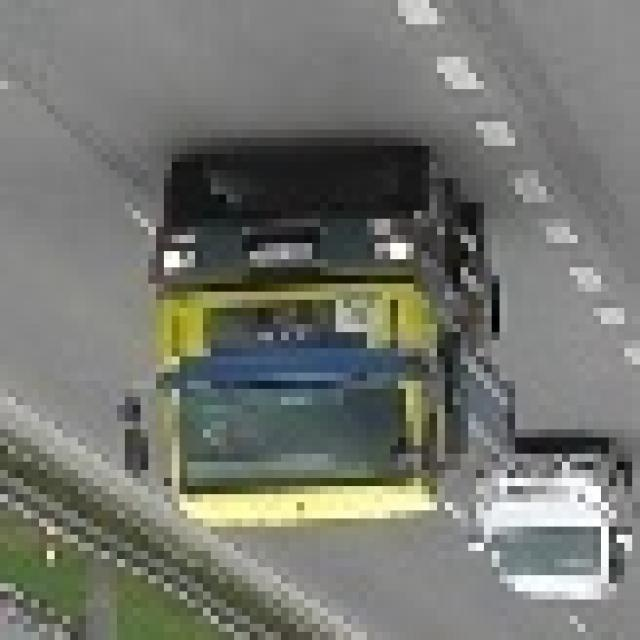Truck: (125, 170, 492, 543)
